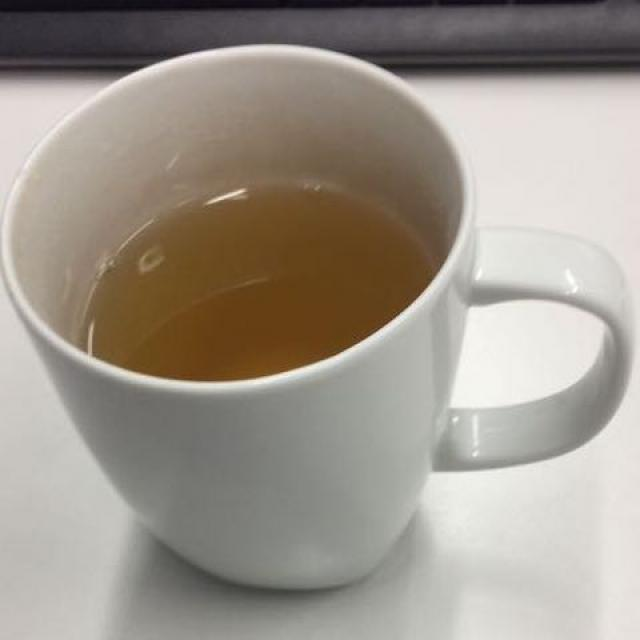tea: (82, 183, 431, 379)
